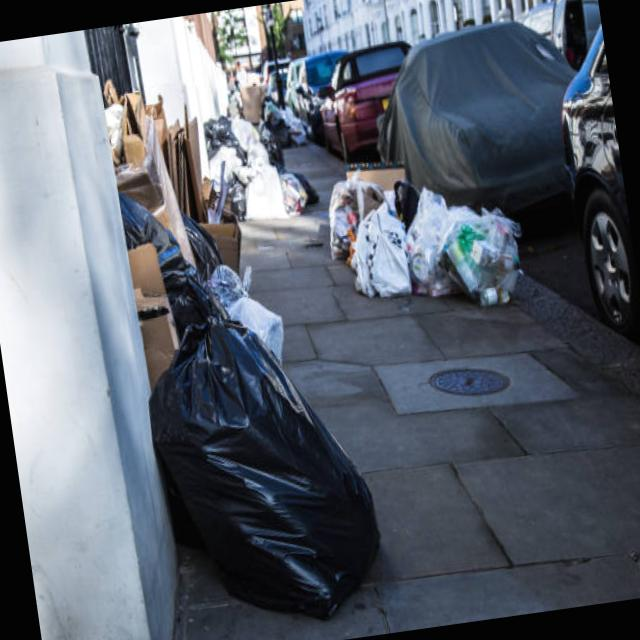garbage: (66, 32, 379, 640), (323, 126, 534, 338)
